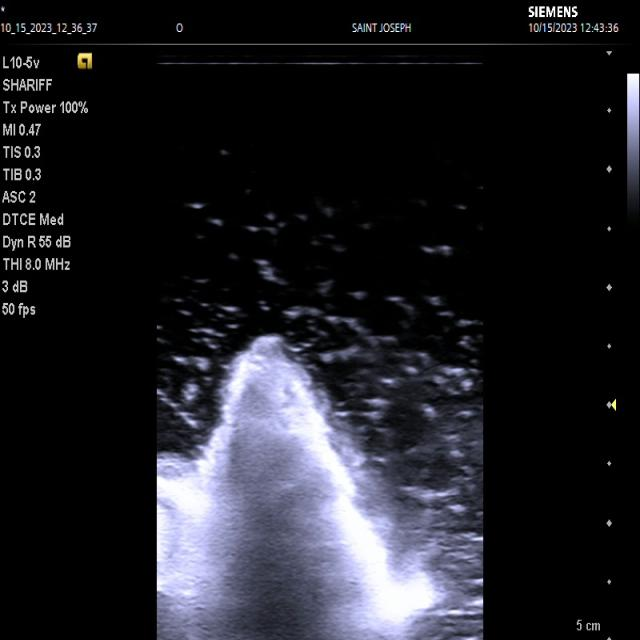tissue: (157, 335, 433, 640)
